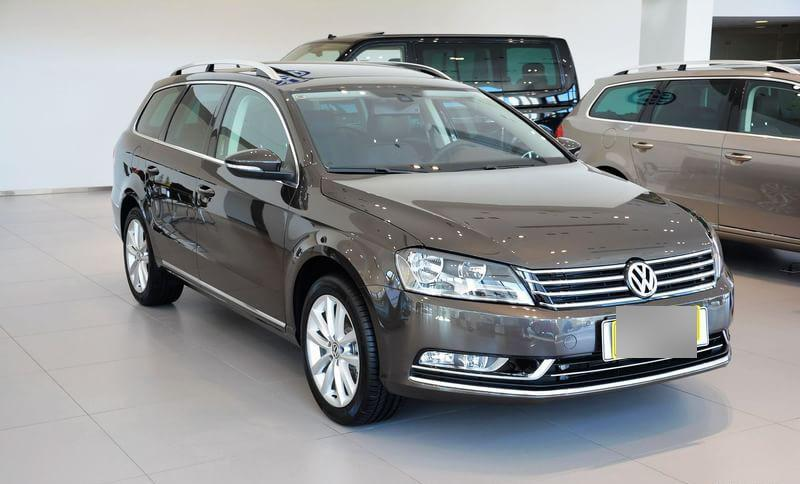Wagon: (111, 58, 737, 427)
